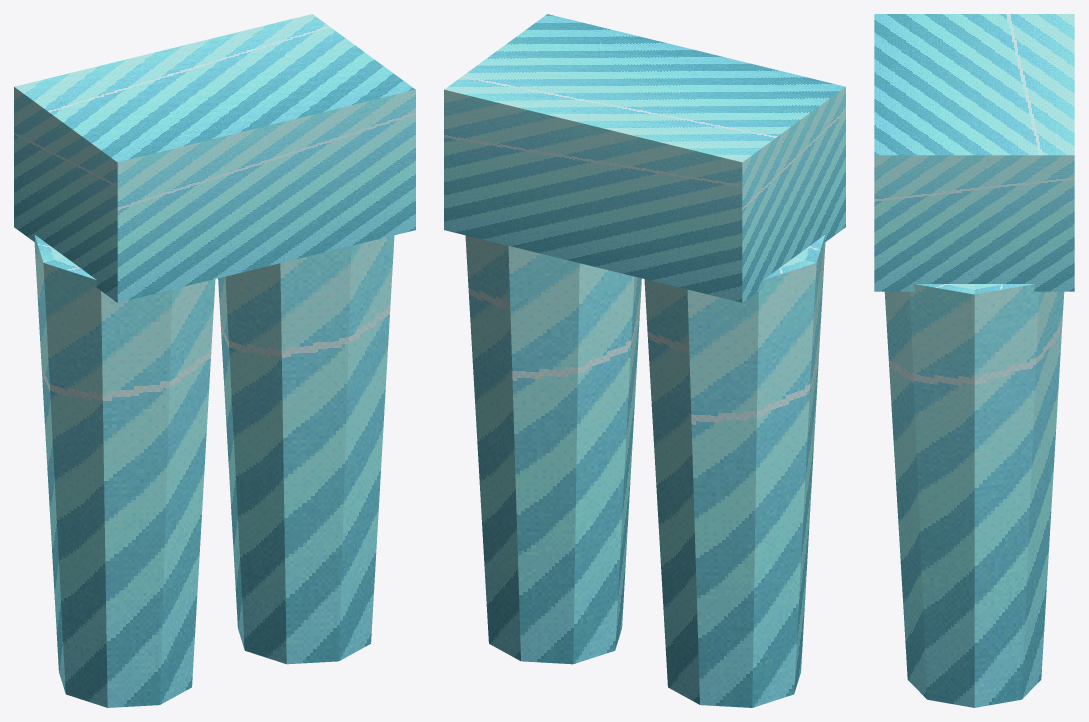
File: calcas_de_diamante.glb
3 renders of one model, left to right at view 1: azimuth 30°, elevation 25°; view 2: azimuth 150°, elevation 25°; view 3: azimuth 270°, elevation 25°, orthographic. The views are drawn at different scales.
Visible parts, largest first — view 1: calcas_de_diamante; view 2: calcas_de_diamante; view 3: calcas_de_diamante.
Part boxes in pixels (x1=…): calcas_de_diamante: x1=14, y1=14, x2=415, y2=707; calcas_de_diamante: x1=444, y1=14, x2=845, y2=707; calcas_de_diamante: x1=874, y1=14, x2=1074, y2=707.
Size of the model in its own units: 0.46 by 0.73 by 0.24.
Materials: 1 (1 with a texture image).
